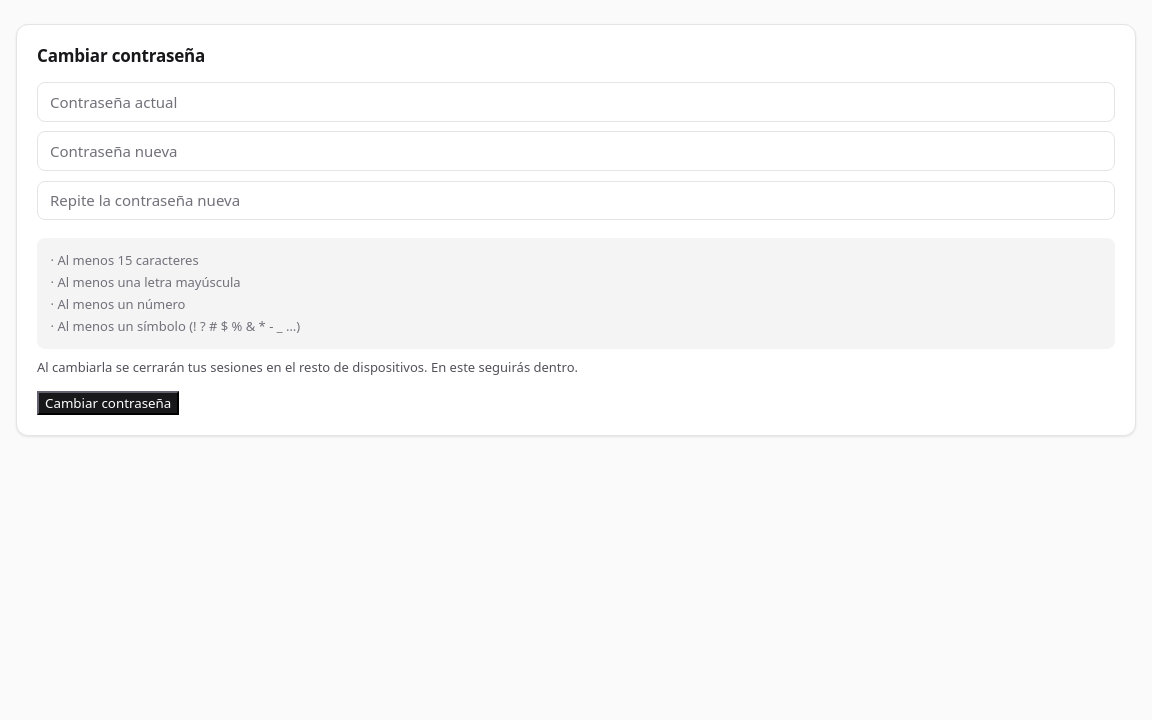
envío › un fallo del servidor se muestra y NO da por hecho el cambio
Type "La-de-antes-2026!" into the password field labelled "Contraseña actual".
click(576, 102); type("La-de-antes-2026!")  # box [37, 82, 1115, 122]
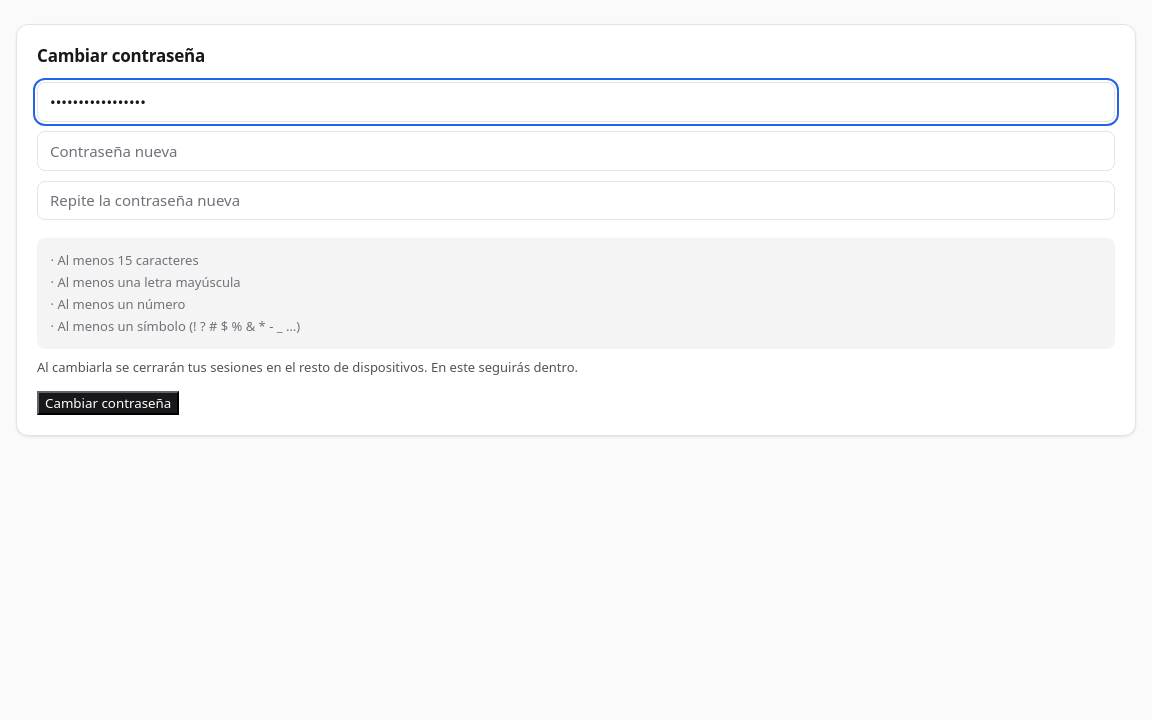
Type "Café con leche y 2 tostadas!" into the password field labelled "Contraseña nueva".
click(576, 151); type("Café con leche y 2 tostadas!")  # box [37, 131, 1115, 171]
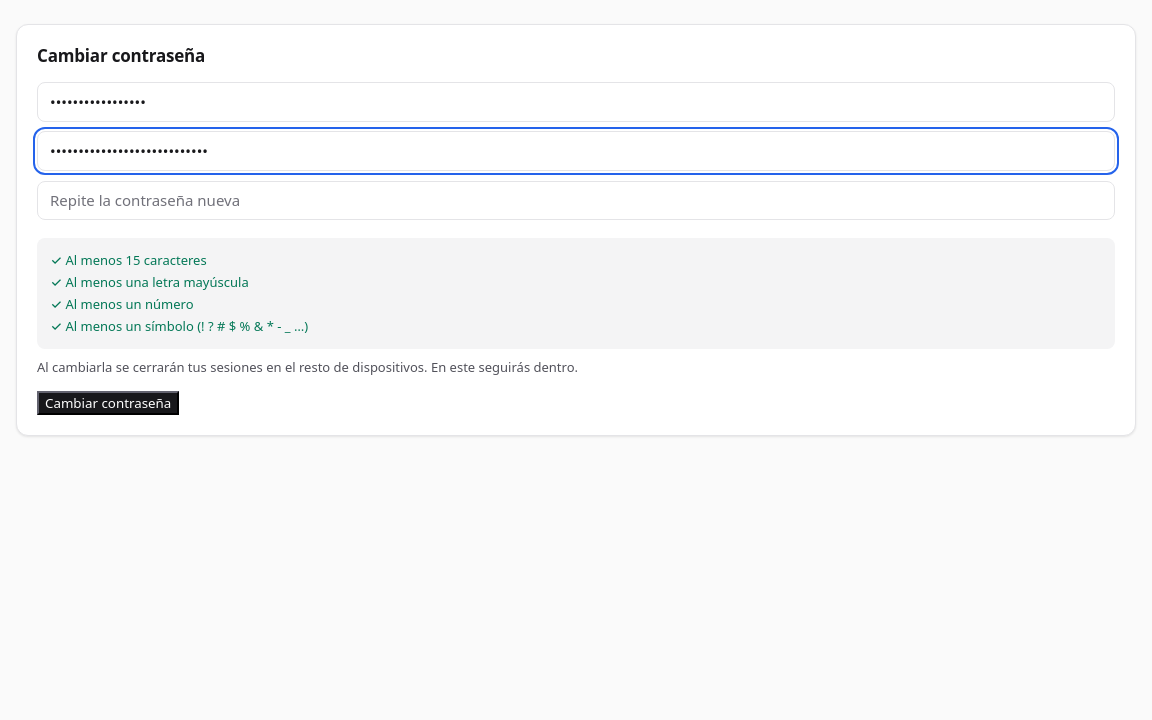
Type "Café con leche y 2 tostadas!" into the password field labelled "Repite la contraseña nueva".
click(576, 200); type("Café con leche y 2 tostadas!")  # box [37, 181, 1115, 220]
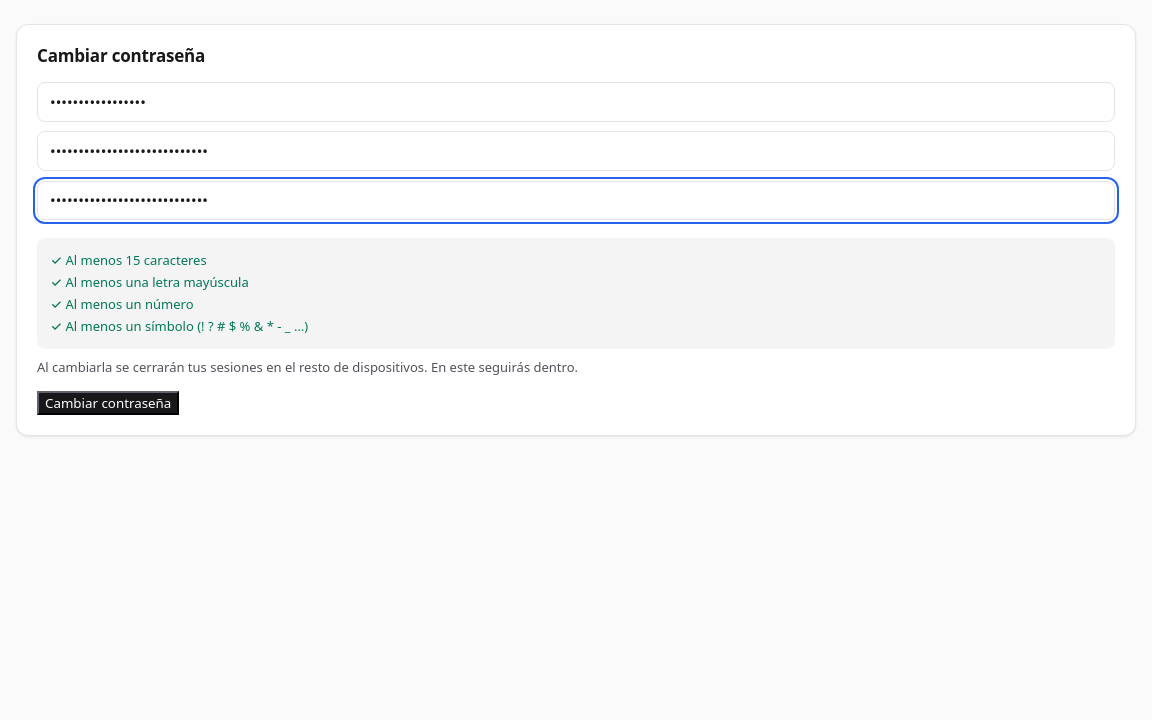
Click the button "Cambiar contraseña".
click(108, 403)  # box [37, 391, 179, 415]
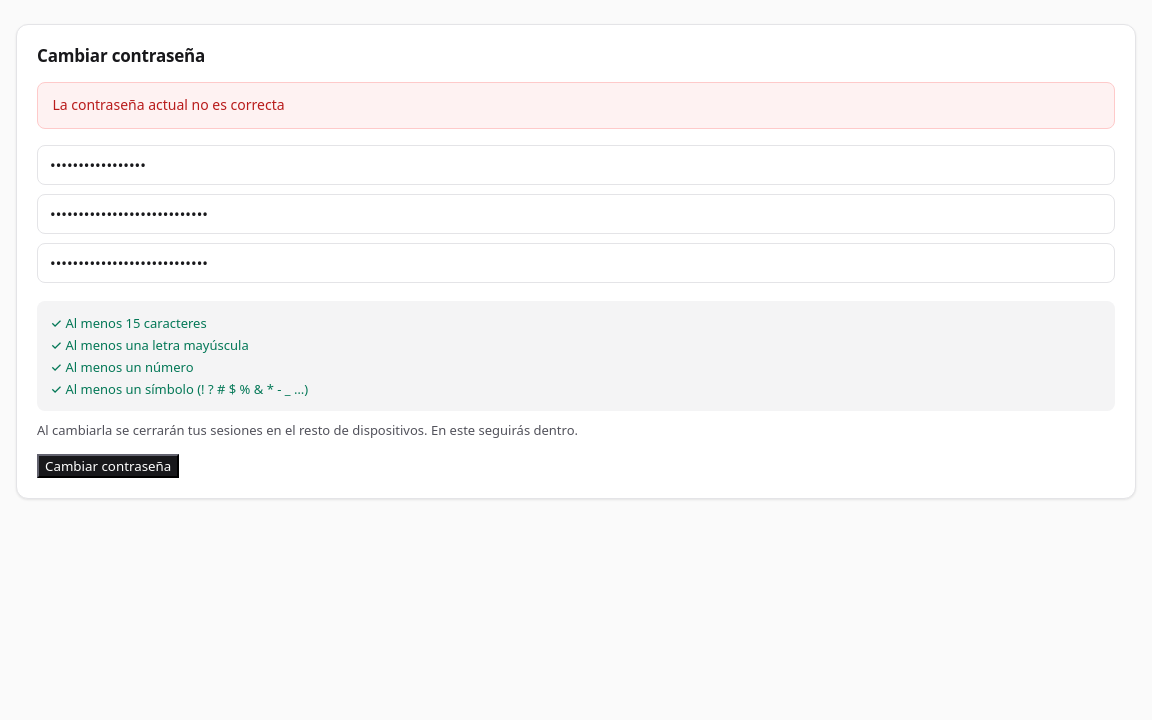
Now the text "La contraseña actual no es correcta" is shown, box [37, 82, 1115, 129]
